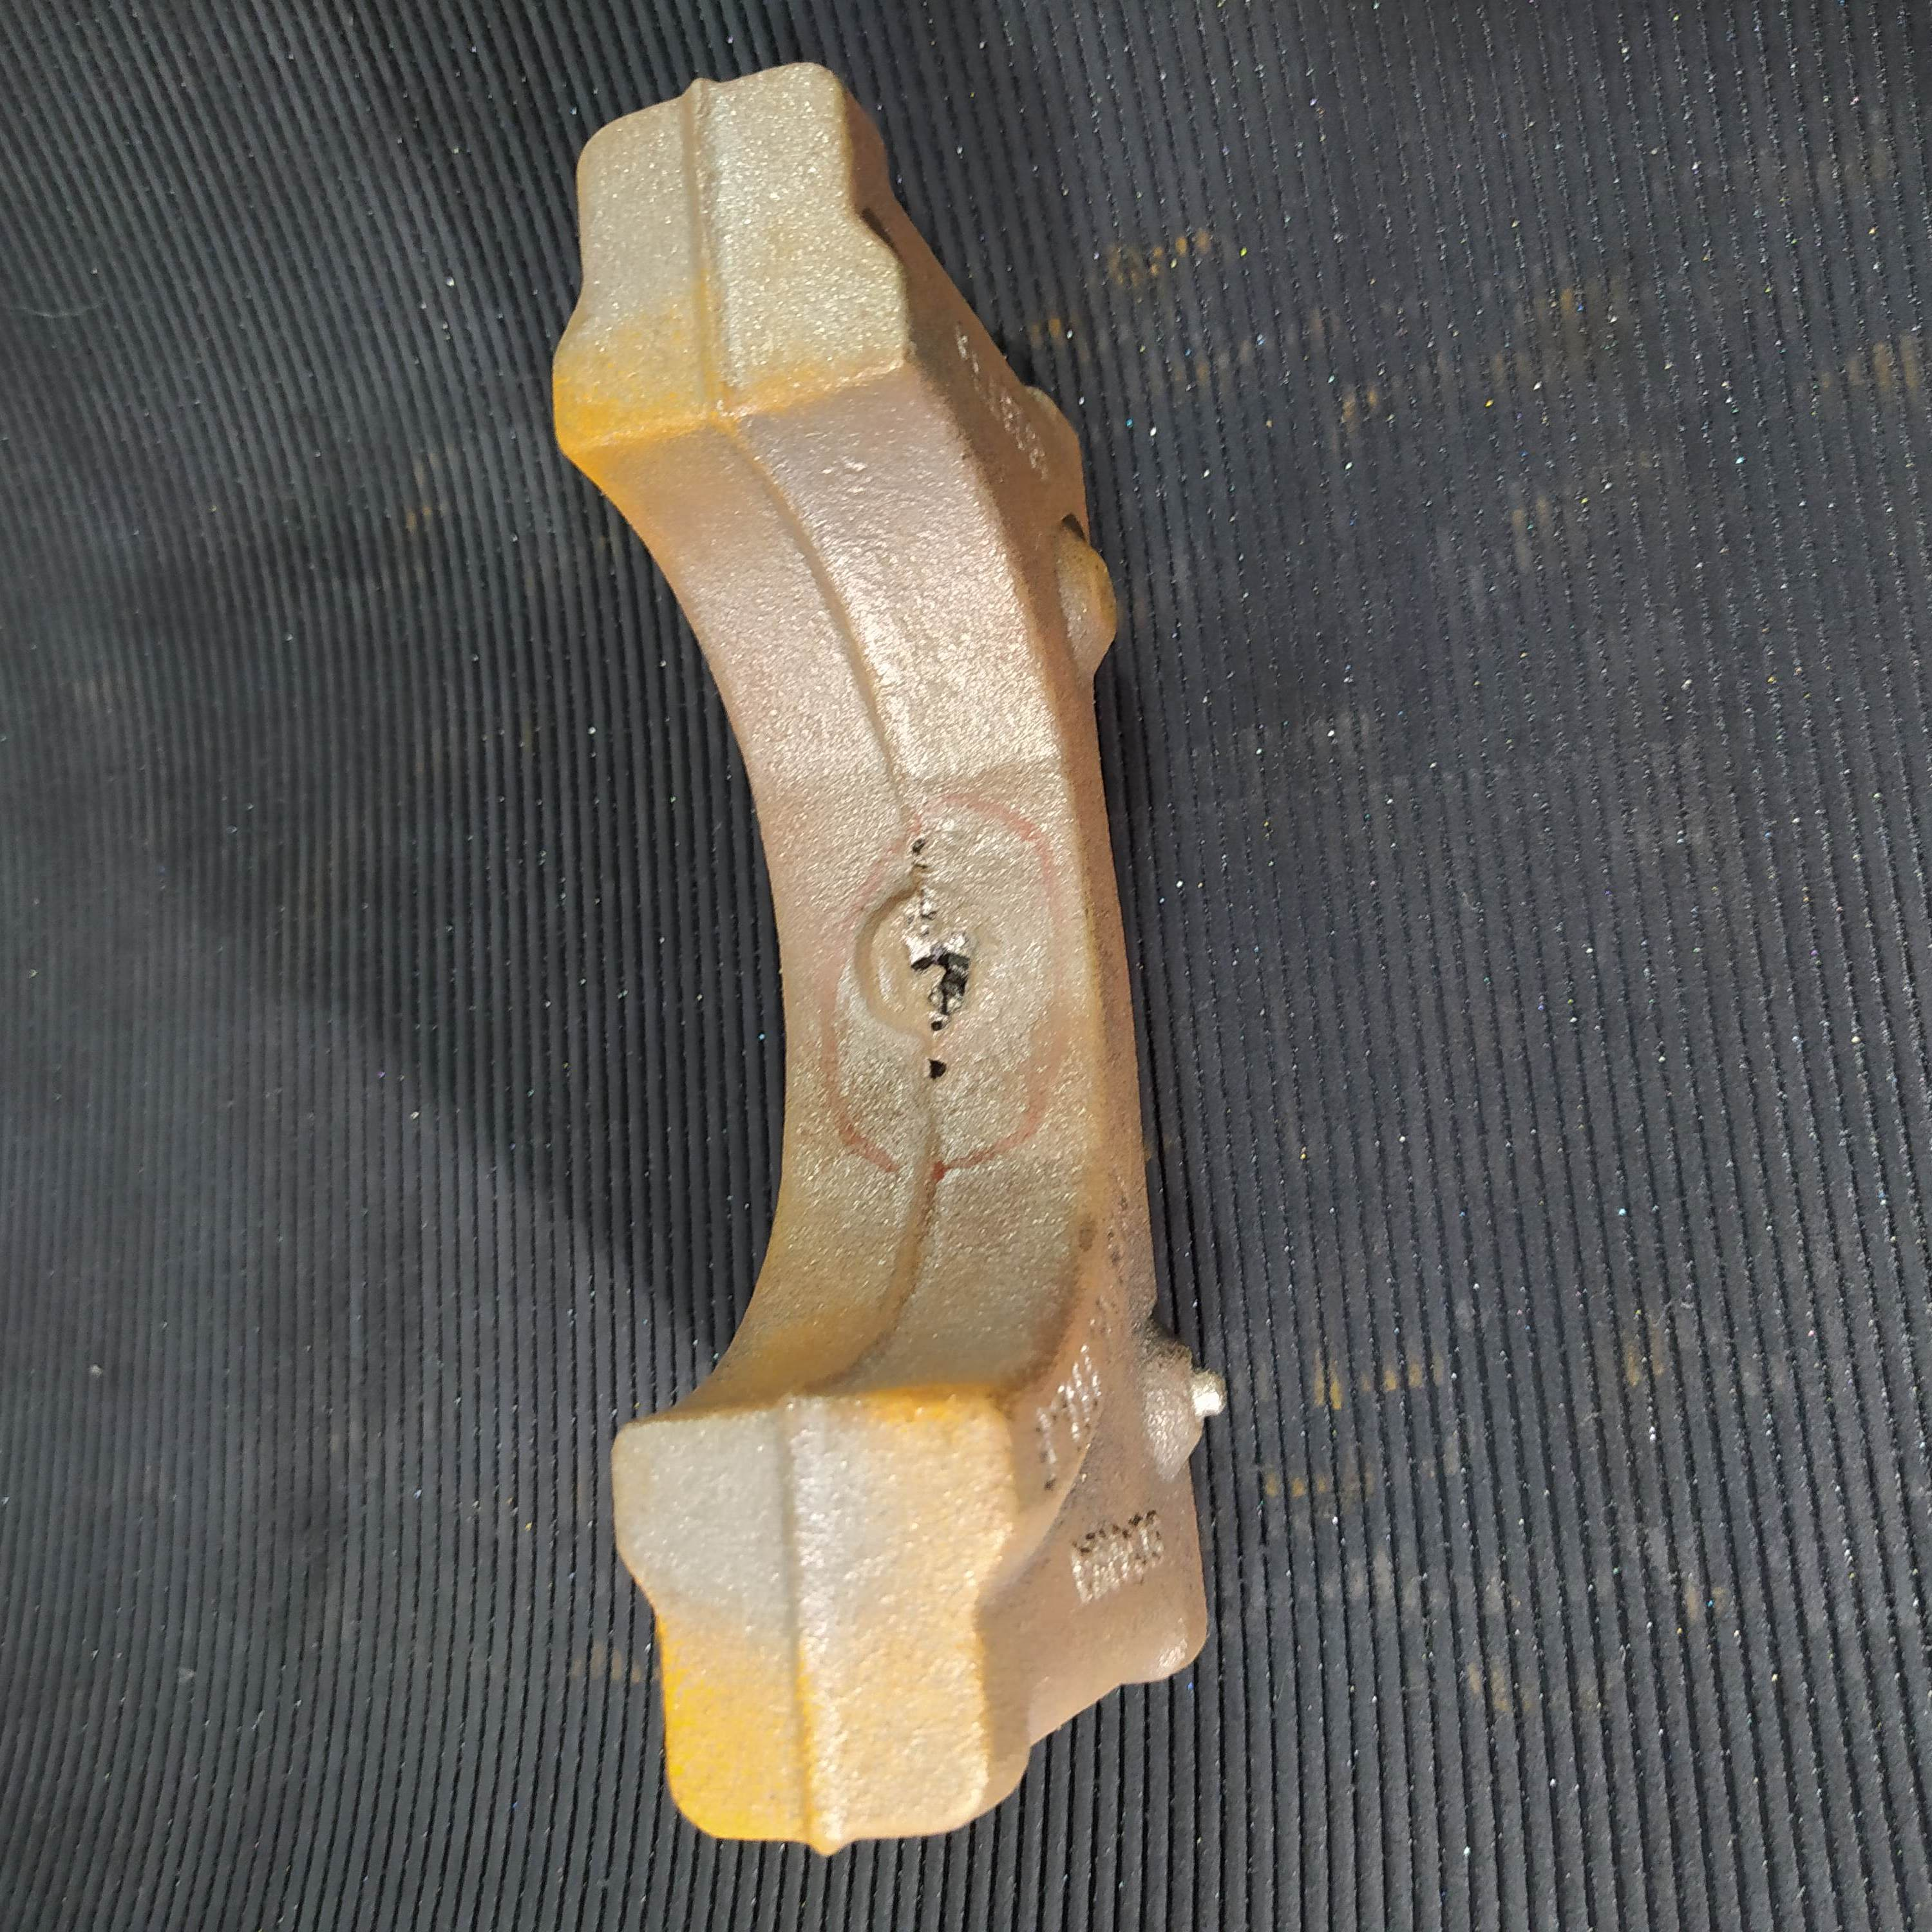buraco: (902, 929, 978, 1039), (922, 1054, 954, 1077), (909, 837, 936, 863)
